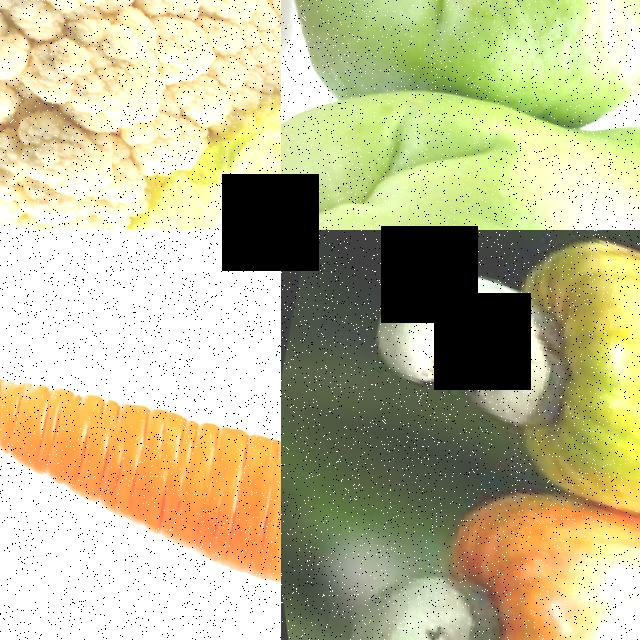carrot: (0, 243, 281, 632)
cashew: (345, 230, 608, 434), (305, 502, 525, 640)
cauliflower: (0, 0, 281, 230)
chayote: (281, 34, 640, 230), (281, 0, 640, 145)
